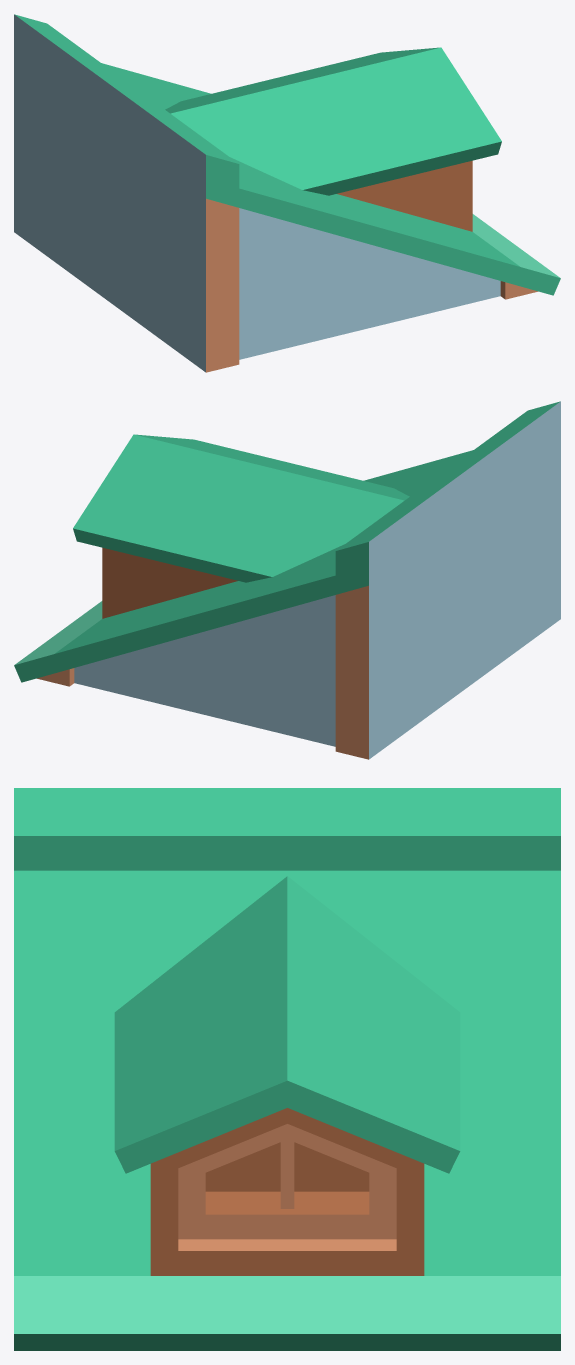
The model's file is roofWindow.glb.
The picture shows the model from 3 angles, top to bottom: view 1: azimuth 30°, elevation 25°; view 2: azimuth 150°, elevation 25°; view 3: azimuth 270°, elevation 25°; orthographic projection. The views are drawn at different scales.
Visible parts, largest first — view 1: roofWindow; view 2: roofWindow; view 3: roofWindow.
Part boxes in pixels (x1,y1,x2,y2): roofWindow: (14, 14, 560, 372); roofWindow: (14, 401, 560, 759); roofWindow: (14, 788, 560, 1350).
Size of the model in its own units: 1.07 by 0.6483 by 1.
